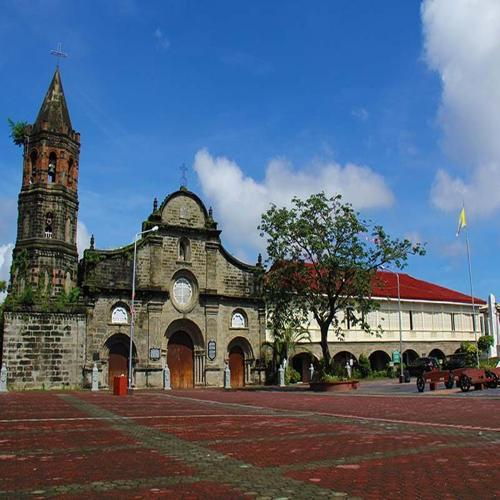Barasoain Church: (6, 36, 267, 393)
